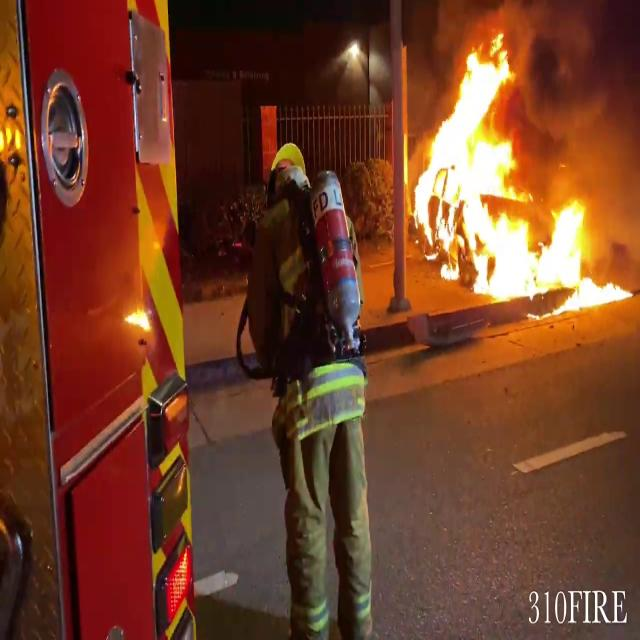Fire: (410, 30, 633, 308)
